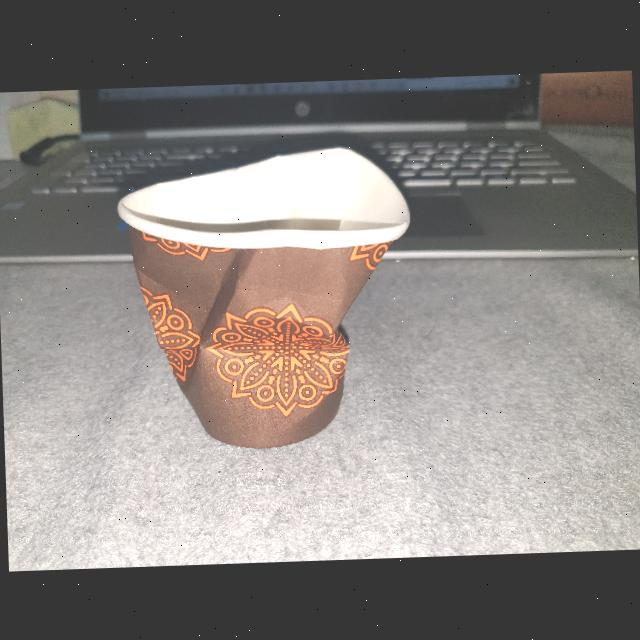trash: (102, 140, 431, 460)
